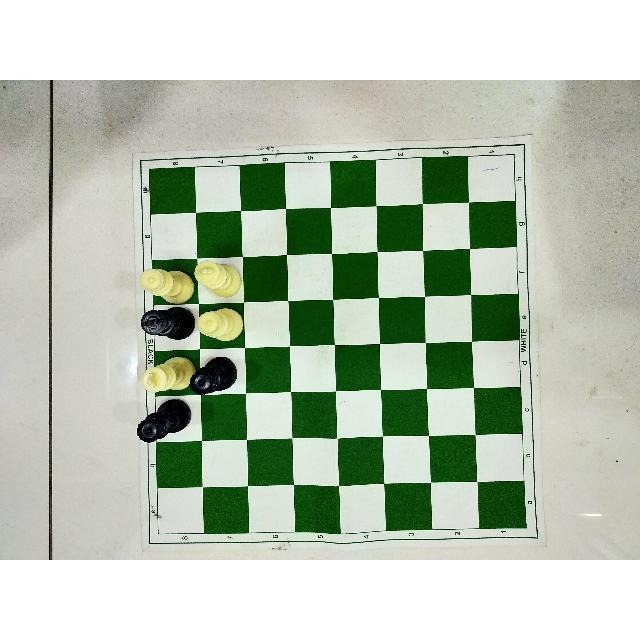black-king: (139, 306, 195, 342)
black-queen: (135, 397, 194, 444), (188, 354, 238, 397)
white-king: (140, 353, 195, 394), (193, 259, 243, 299)
white-queen: (140, 263, 195, 304), (196, 304, 244, 344)
